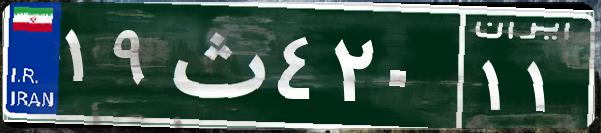0: (385, 28, 445, 110)
1: (57, 26, 110, 107), (475, 38, 525, 113), (525, 38, 570, 115)
2: (330, 28, 385, 110)
4: (273, 28, 330, 110)
9: (110, 28, 158, 105)
ث: (158, 15, 273, 115)
